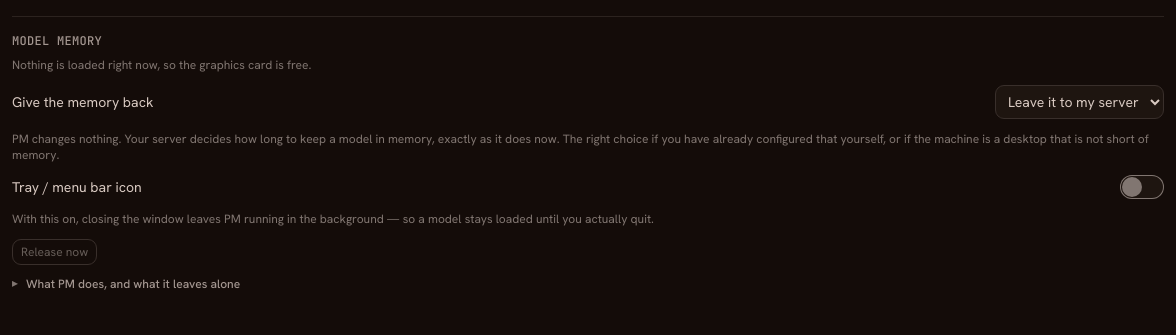
the release policy › restores the release policy too when its write fails
Select "After a quiet period" in the dropdown labelled "Give the memory back" at (1080, 102), box 995,85 -> 1164,119
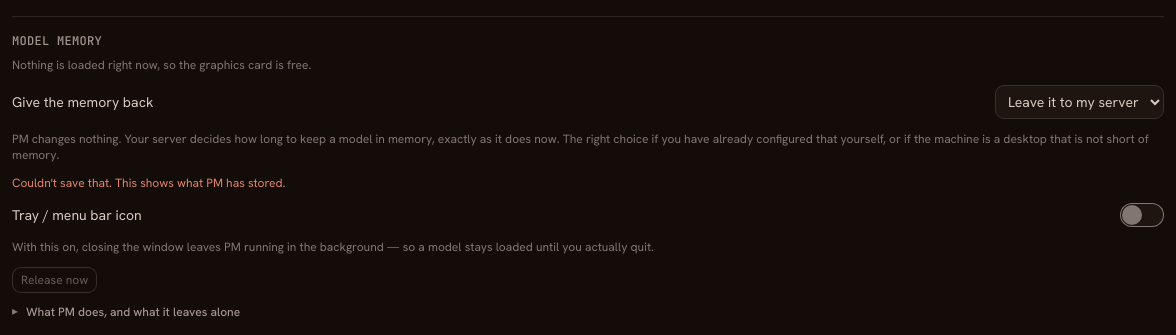
Expected: the text "Couldn't save that. This shows what PM has stored." is shown, 12,175 -> 286,191
